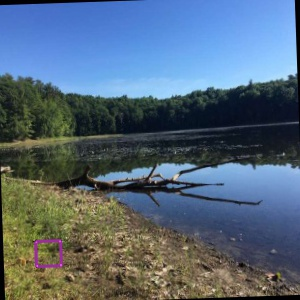square: (32, 237, 65, 270)
